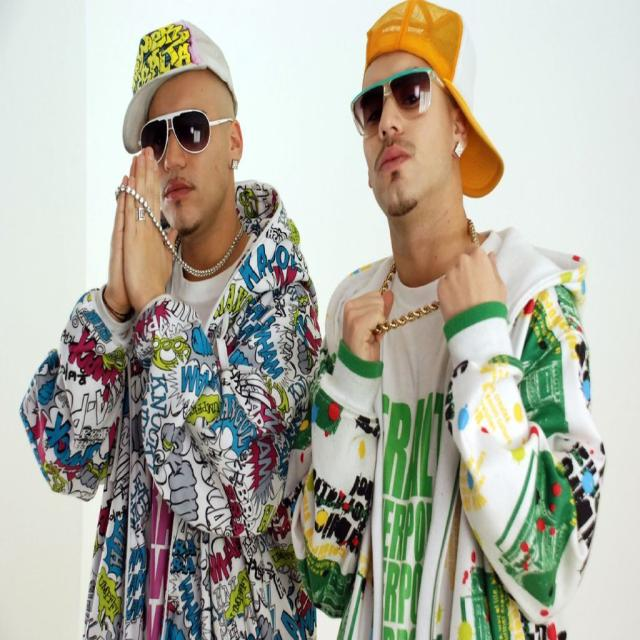Hat: (364, 0, 504, 199), (118, 18, 238, 154)
